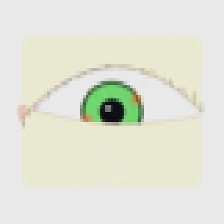foreign_body_visible: (118, 130, 139, 147)
